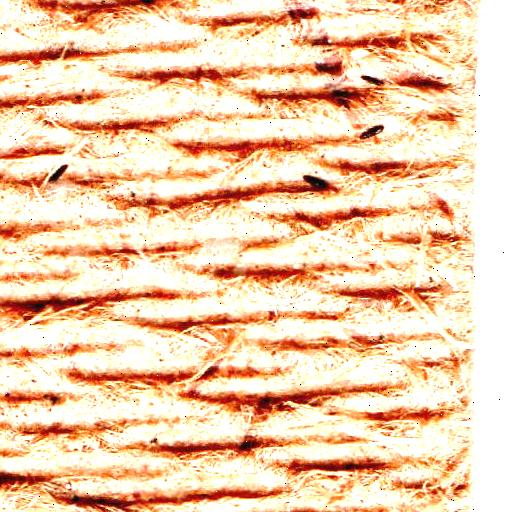egg: (301, 169, 336, 199), (41, 160, 74, 185), (323, 84, 359, 105), (314, 53, 340, 80), (358, 114, 384, 141), (367, 64, 388, 90)
